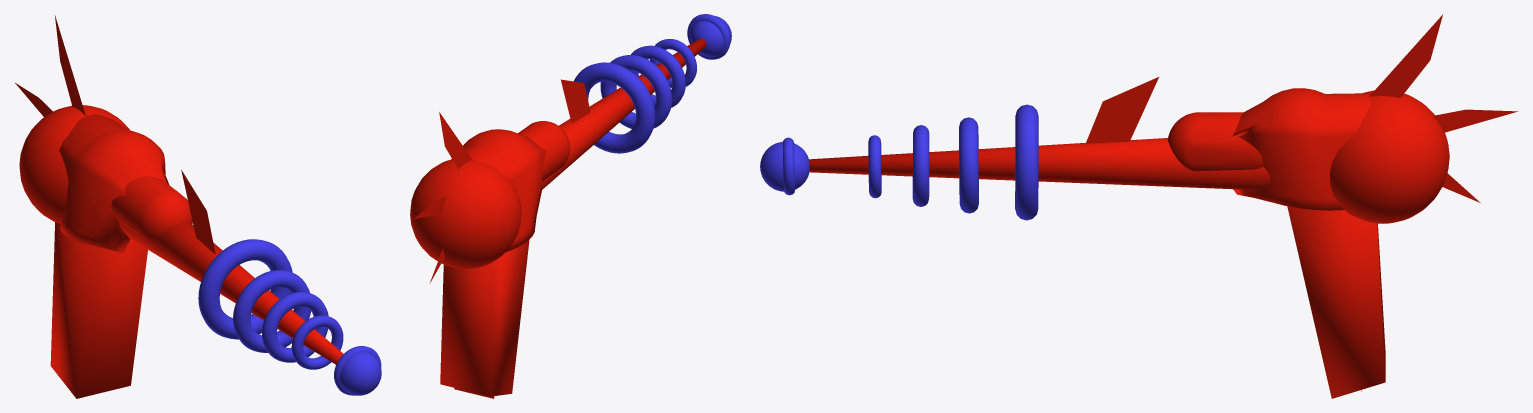
File: RayGun.glb
The picture shows the model from 3 angles, left to right: view 1: azimuth 30°, elevation 25°; view 2: azimuth 150°, elevation 25°; view 3: azimuth 270°, elevation 25°; orthographic projection. The views are drawn at different scales.
Visible parts, largest first — view 1: Cube, Sphere.001, Cube.001, Cylinder, Sphere, Plane; view 2: Cube, Sphere, Cube.001, Sphere.001, Cylinder, Plane; view 3: Cube, Sphere.001, Sphere, Cylinder, Cube.001, Plane.
Boxes of the visible parts, x1=… form: Cube: x1=15, y1=15, x2=147, y2=398; Sphere.001: x1=59, y1=114, x2=192, y2=253; Cube.001: x1=198, y1=239, x2=381, y2=395; Cylinder: x1=119, y1=221, x2=343, y2=364; Sphere: x1=19, y1=105, x2=129, y2=223; Plane: x1=181, y1=170, x2=215, y2=254; Cube: x1=413, y1=112, x2=529, y2=398; Sphere: x1=410, y1=159, x2=521, y2=268; Cube.001: x1=574, y1=14, x2=731, y2=153; Sphere.001: x1=451, y1=121, x2=570, y2=251; Cylinder: x1=541, y1=38, x2=706, y2=189; Plane: x1=561, y1=79, x2=590, y2=123; Cube: x1=1287, y1=14, x2=1518, y2=398; Sphere.001: x1=1167, y1=88, x2=1371, y2=210; Sphere: x1=1329, y1=90, x2=1449, y2=223; Cylinder: x1=809, y1=138, x2=1270, y2=189; Cube.001: x1=760, y1=104, x2=1038, y2=220; Plane: x1=1085, y1=77, x2=1158, y2=143.
Bounding box in the file's own units: 1.22 × 3.73 × 6.91.
